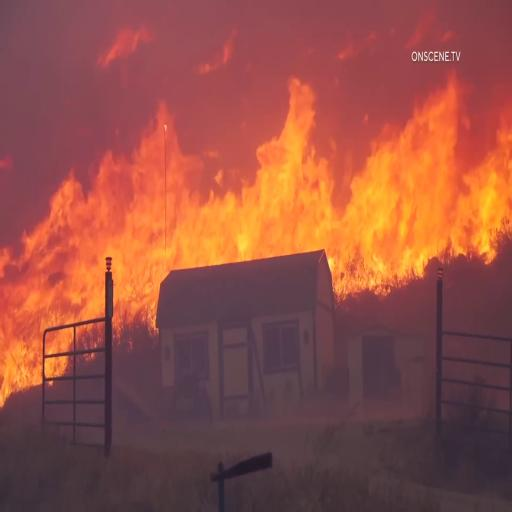fire: (0, 109, 160, 385), (328, 77, 472, 283), (158, 89, 324, 254)
